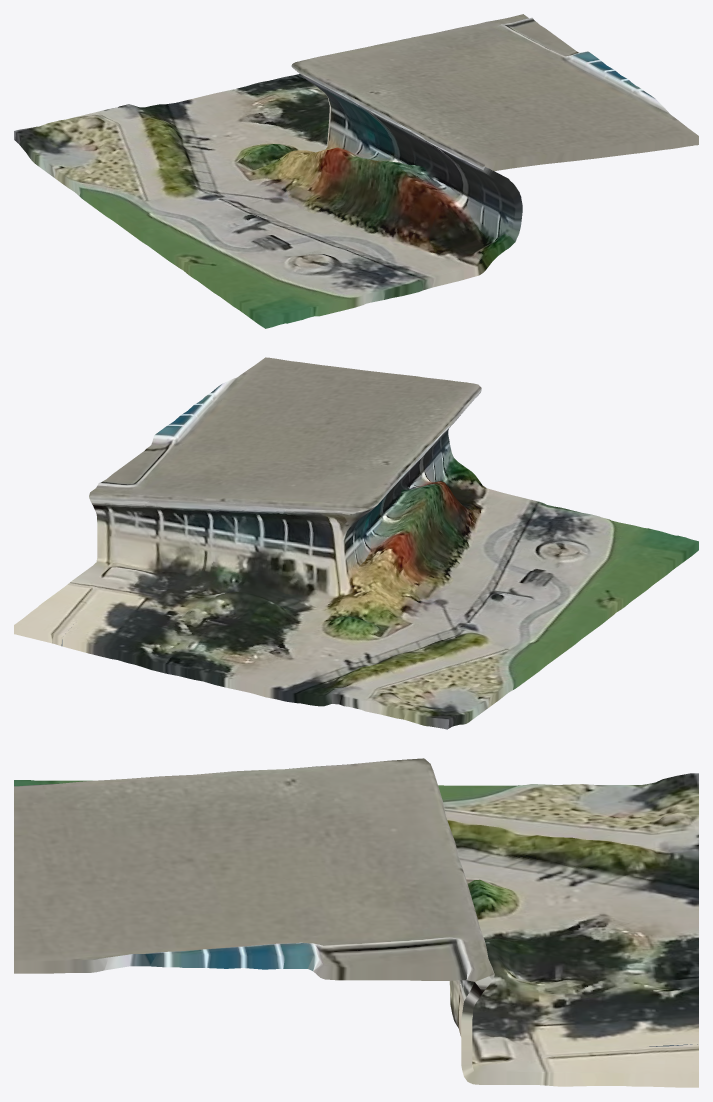
Rendered from z20-167735-405194-h0-yup-uvflip-v3-world.glb.
The picture shows the model from 3 angles, top to bottom: view 1: azimuth 30°, elevation 25°; view 2: azimuth 150°, elevation 25°; view 3: azimuth 270°, elevation 25°; orthographic projection. The views are drawn at different scales.
Size of the model in its own units: 30.16 by 7.96 by 30.32.
1 material, 1 textured.
